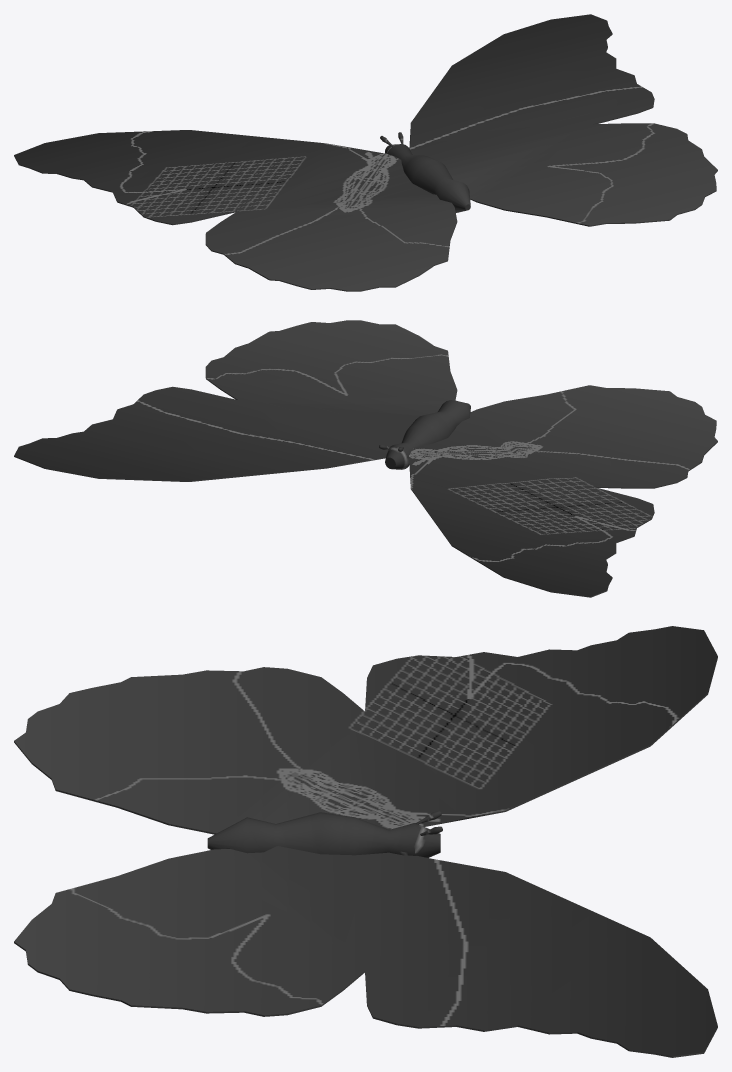
Rendered from Butterfly.FBX.
The picture shows the model from 3 angles, top to bottom: view 1: azimuth 30°, elevation 25°; view 2: azimuth 150°, elevation 25°; view 3: azimuth 270°, elevation 25°; orthographic projection. The views are drawn at different scales.
Parts seen in each view (by area): view 1: Cylinder003; view 2: Cylinder003; view 3: Cylinder003.
Part boxes in pixels (box(x1,y1,x2,y2)): Cylinder003: box(14, 14, 717, 291); Cylinder003: box(14, 320, 717, 597); Cylinder003: box(14, 626, 717, 1057).
Bounding box in the file's own units: 581 × 35.36 × 402.
